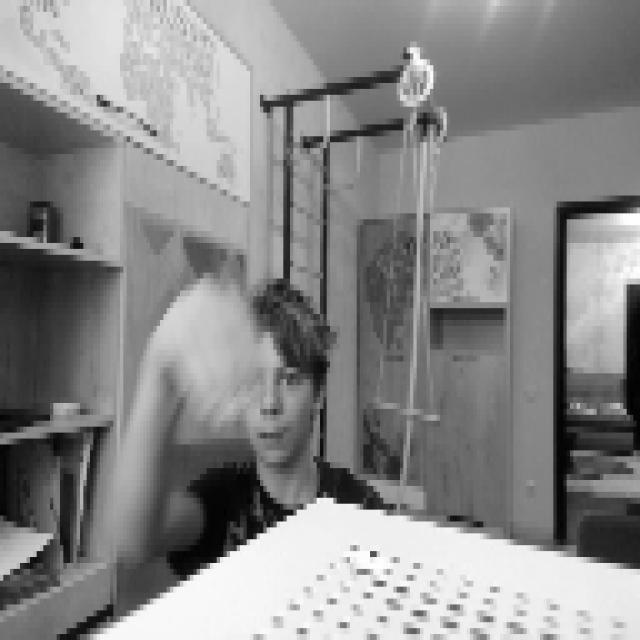left_click: (156, 260, 266, 427)
